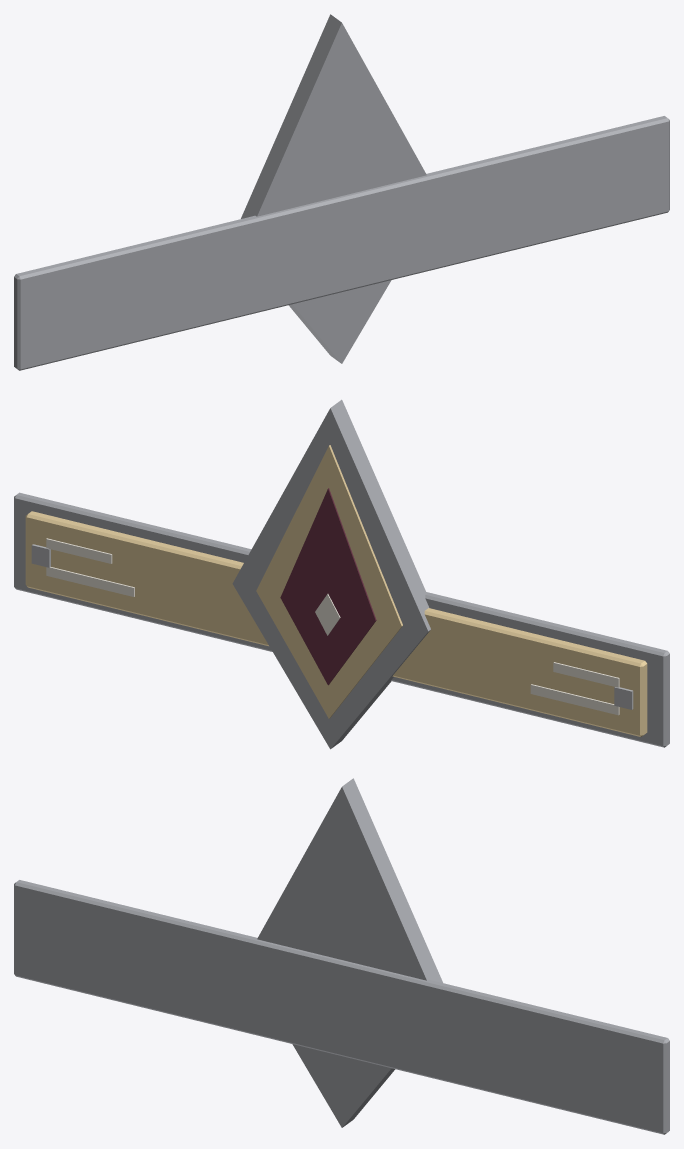
The model's file is prop_graded_case_badge_01.glb.
3 renders of one model, top to bottom at view 1: azimuth 30°, elevation 25°; view 2: azimuth 150°, elevation 25°; view 3: azimuth 330°, elevation 25°, orthographic.
Parts seen in each view (by area): view 1: prop_graded_case_badge_01; view 2: prop_graded_case_badge_01; view 3: prop_graded_case_badge_01.
Part boxes in pixels (x1=…): prop_graded_case_badge_01: x1=14, y1=14, x2=669, y2=370; prop_graded_case_badge_01: x1=14, y1=399, x2=669, y2=749; prop_graded_case_badge_01: x1=14, y1=778, x2=669, y2=1134.
Size of the model in its own units: 0.52 by 0.26 by 0.024.
